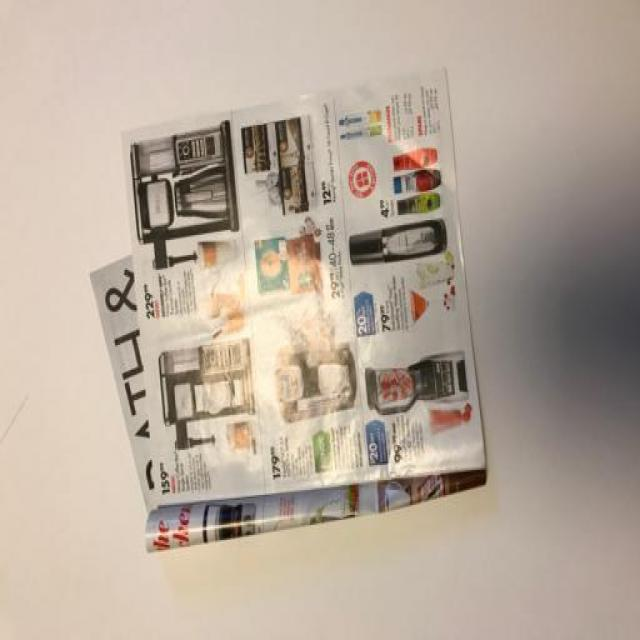paper: (71, 107, 491, 533)
